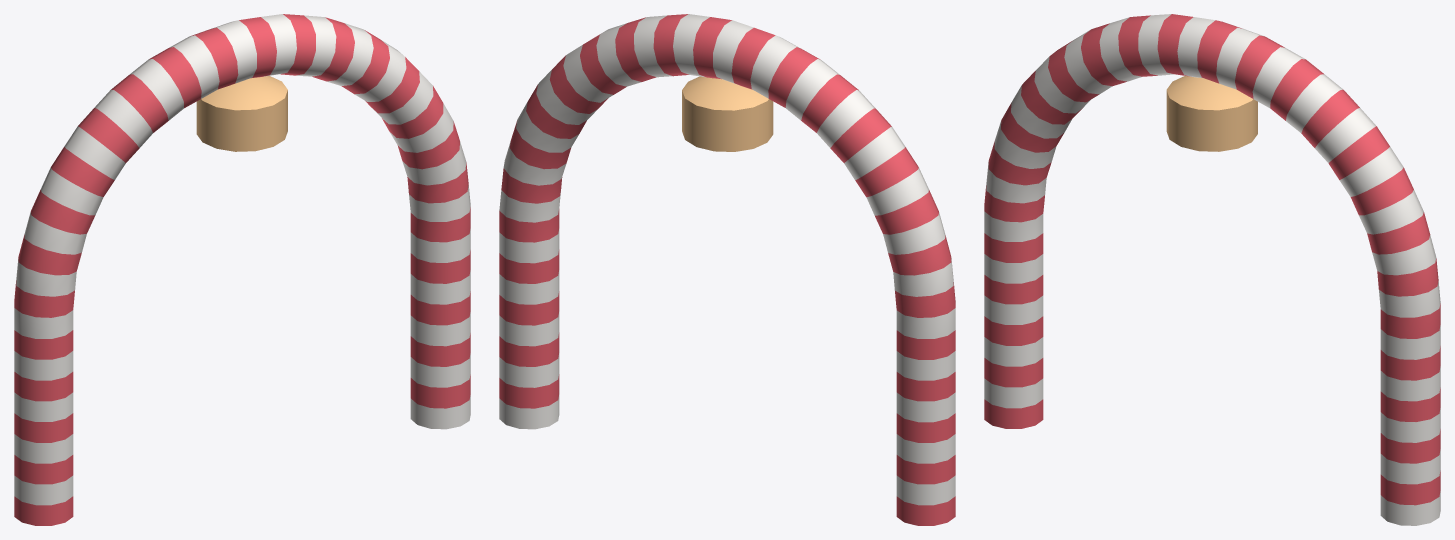
Rendered from CandyCane_Arch.fbx.
3 views of the same model, side by side, from view 1: azimuth 30°, elevation 25°; view 2: azimuth 150°, elevation 25°; view 3: azimuth 330°, elevation 25° (orthographic).
Parts seen in each view (by area): view 1: CandyCane_Arch; view 2: CandyCane_Arch; view 3: CandyCane_Arch.
Boxes of the visible parts, x1,y1,x2,y2 form: CandyCane_Arch: [14, 14, 470, 525]; CandyCane_Arch: [499, 14, 955, 525]; CandyCane_Arch: [984, 14, 1440, 525].
Bounding box in the file's own units: 6.78 × 6.39 × 1.17.
